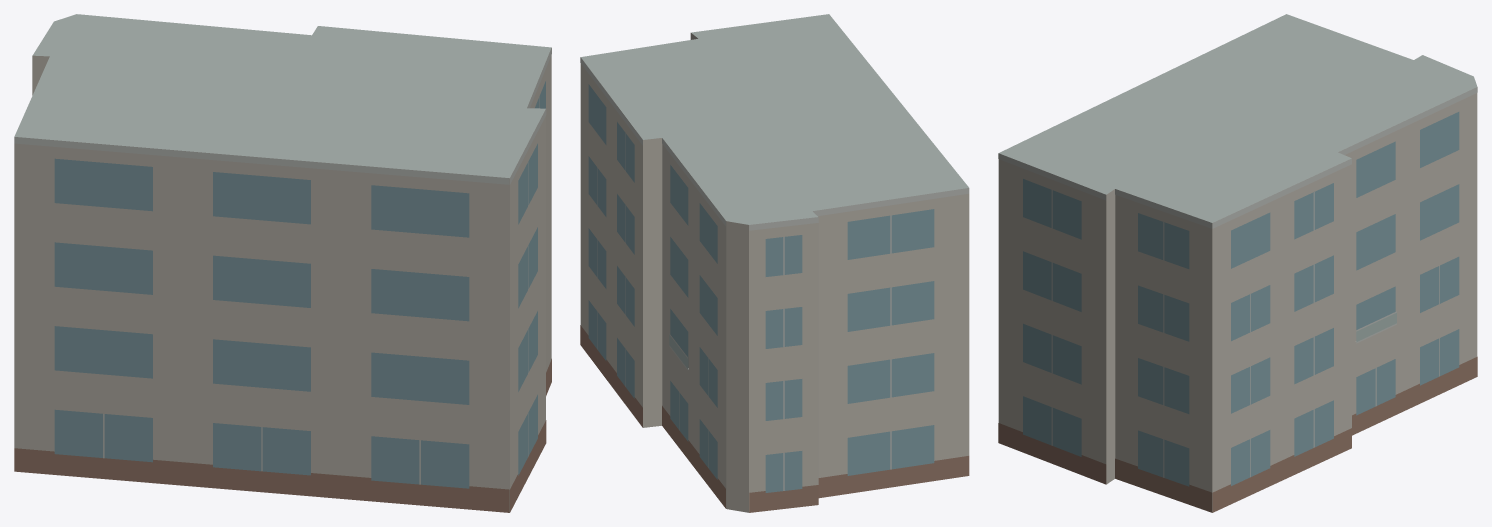
Rendered from survey-upis-32897554.glb.
3 renders of one model, left to right at view 1: azimuth 30°, elevation 25°; view 2: azimuth 150°, elevation 25°; view 3: azimuth 270°, elevation 25°, orthographic. The views are drawn at different scales.
Visible parts, largest first — view 1: survey-upis-32897554.tmp; view 2: survey-upis-32897554.tmp; view 3: survey-upis-32897554.tmp.
Part boxes in pixels (x1,y1,x2,y2): survey-upis-32897554.tmp: (14,14,551,512); survey-upis-32897554.tmp: (580,14,969,512); survey-upis-32897554.tmp: (998,14,1477,512).
Bounding box in the file's own units: 18.69 × 12.08 × 18.1.
